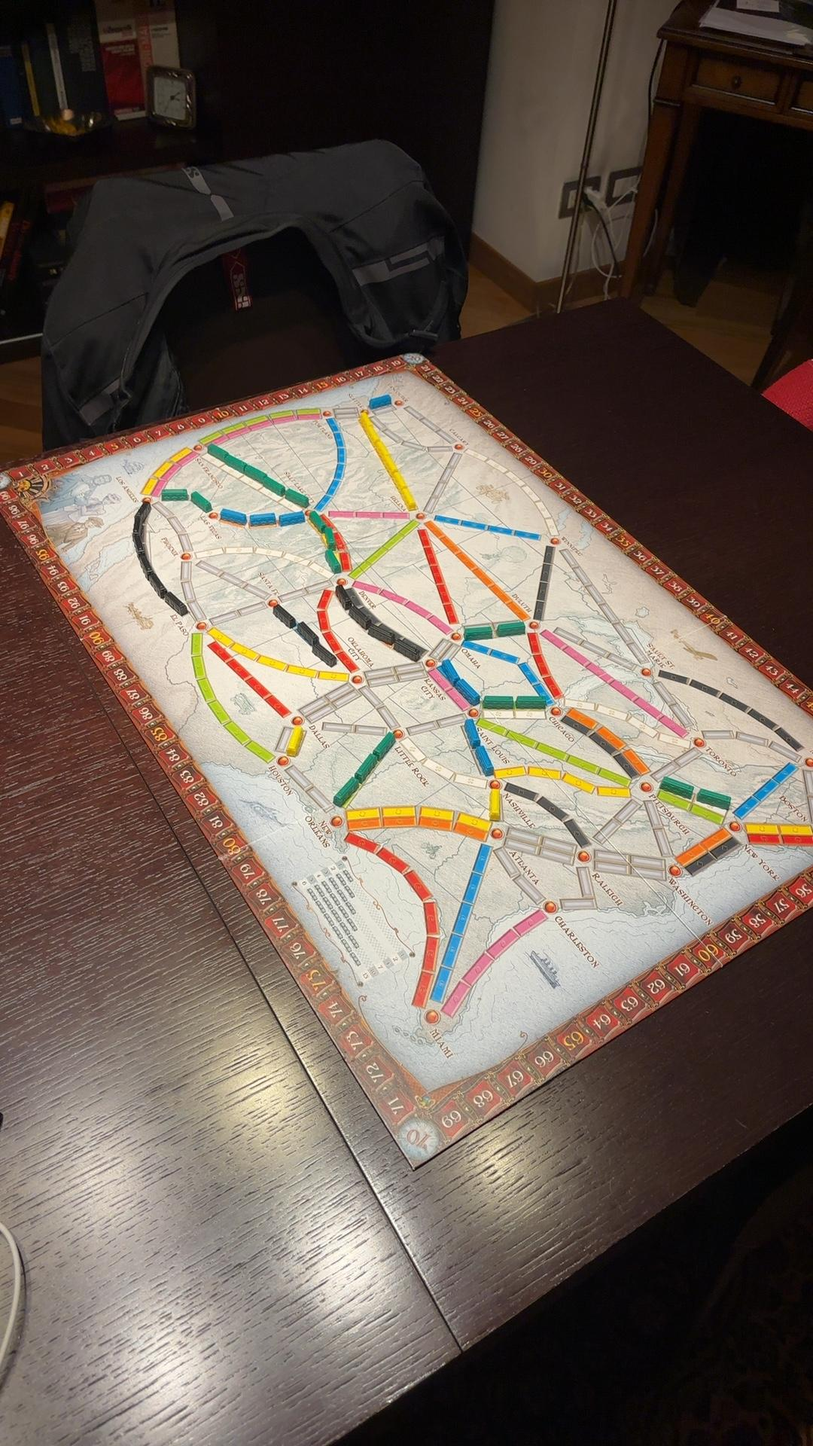black_train: (394, 640, 422, 660), (367, 625, 394, 644), (313, 642, 336, 664), (276, 603, 296, 628), (296, 624, 318, 644)
blue_train: (473, 744, 494, 775), (455, 681, 480, 705), (440, 660, 461, 683), (220, 508, 247, 524), (464, 721, 480, 748), (280, 510, 304, 526), (249, 512, 276, 525), (369, 394, 391, 408)
green_train: (207, 443, 308, 505), (333, 733, 394, 805), (333, 775, 360, 807), (662, 776, 694, 799), (697, 789, 729, 811), (355, 752, 378, 781), (515, 694, 547, 710), (191, 491, 212, 514), (482, 694, 513, 709), (309, 509, 327, 534), (464, 624, 492, 640), (495, 621, 524, 636), (285, 488, 309, 506), (325, 547, 341, 573), (162, 488, 188, 501)
